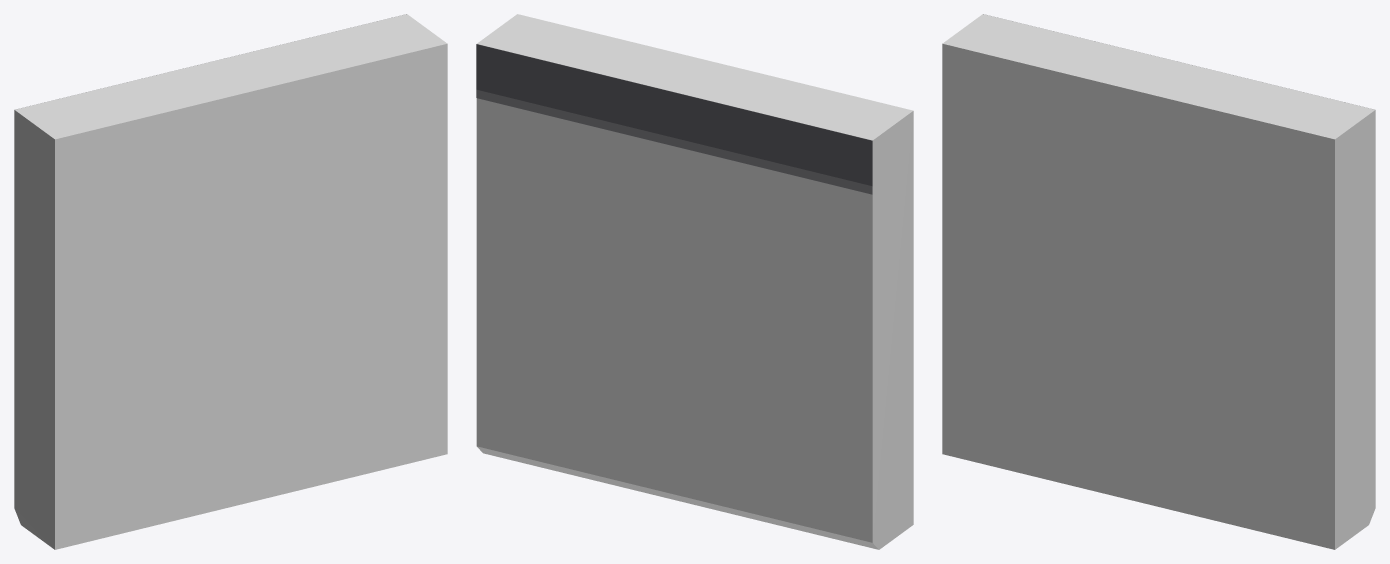
File: SM_Bld_Wall_03.fbx
3 renders of one model, left to right at view 1: azimuth 30°, elevation 25°; view 2: azimuth 150°, elevation 25°; view 3: azimuth 330°, elevation 25°, orthographic.
Visible parts, largest first — view 1: SM_Bld_Wall_03_ConvexHulls; view 2: SM_Bld_Wall_03_ConvexHulls, SM_Bld_Wall_03_LOD0; view 3: SM_Bld_Wall_03_ConvexHulls.
Part boxes in pixels (bbox=[...]): SM_Bld_Wall_03_ConvexHulls: bbox=[14, 14, 447, 549]; SM_Bld_Wall_03_ConvexHulls: bbox=[476, 14, 913, 549]; SM_Bld_Wall_03_LOD0: bbox=[476, 44, 872, 194]; SM_Bld_Wall_03_ConvexHulls: bbox=[942, 14, 1375, 549].
Bounding box in the file's own units: 89.83 × 500 × 500.
1 material, 1 textured.
